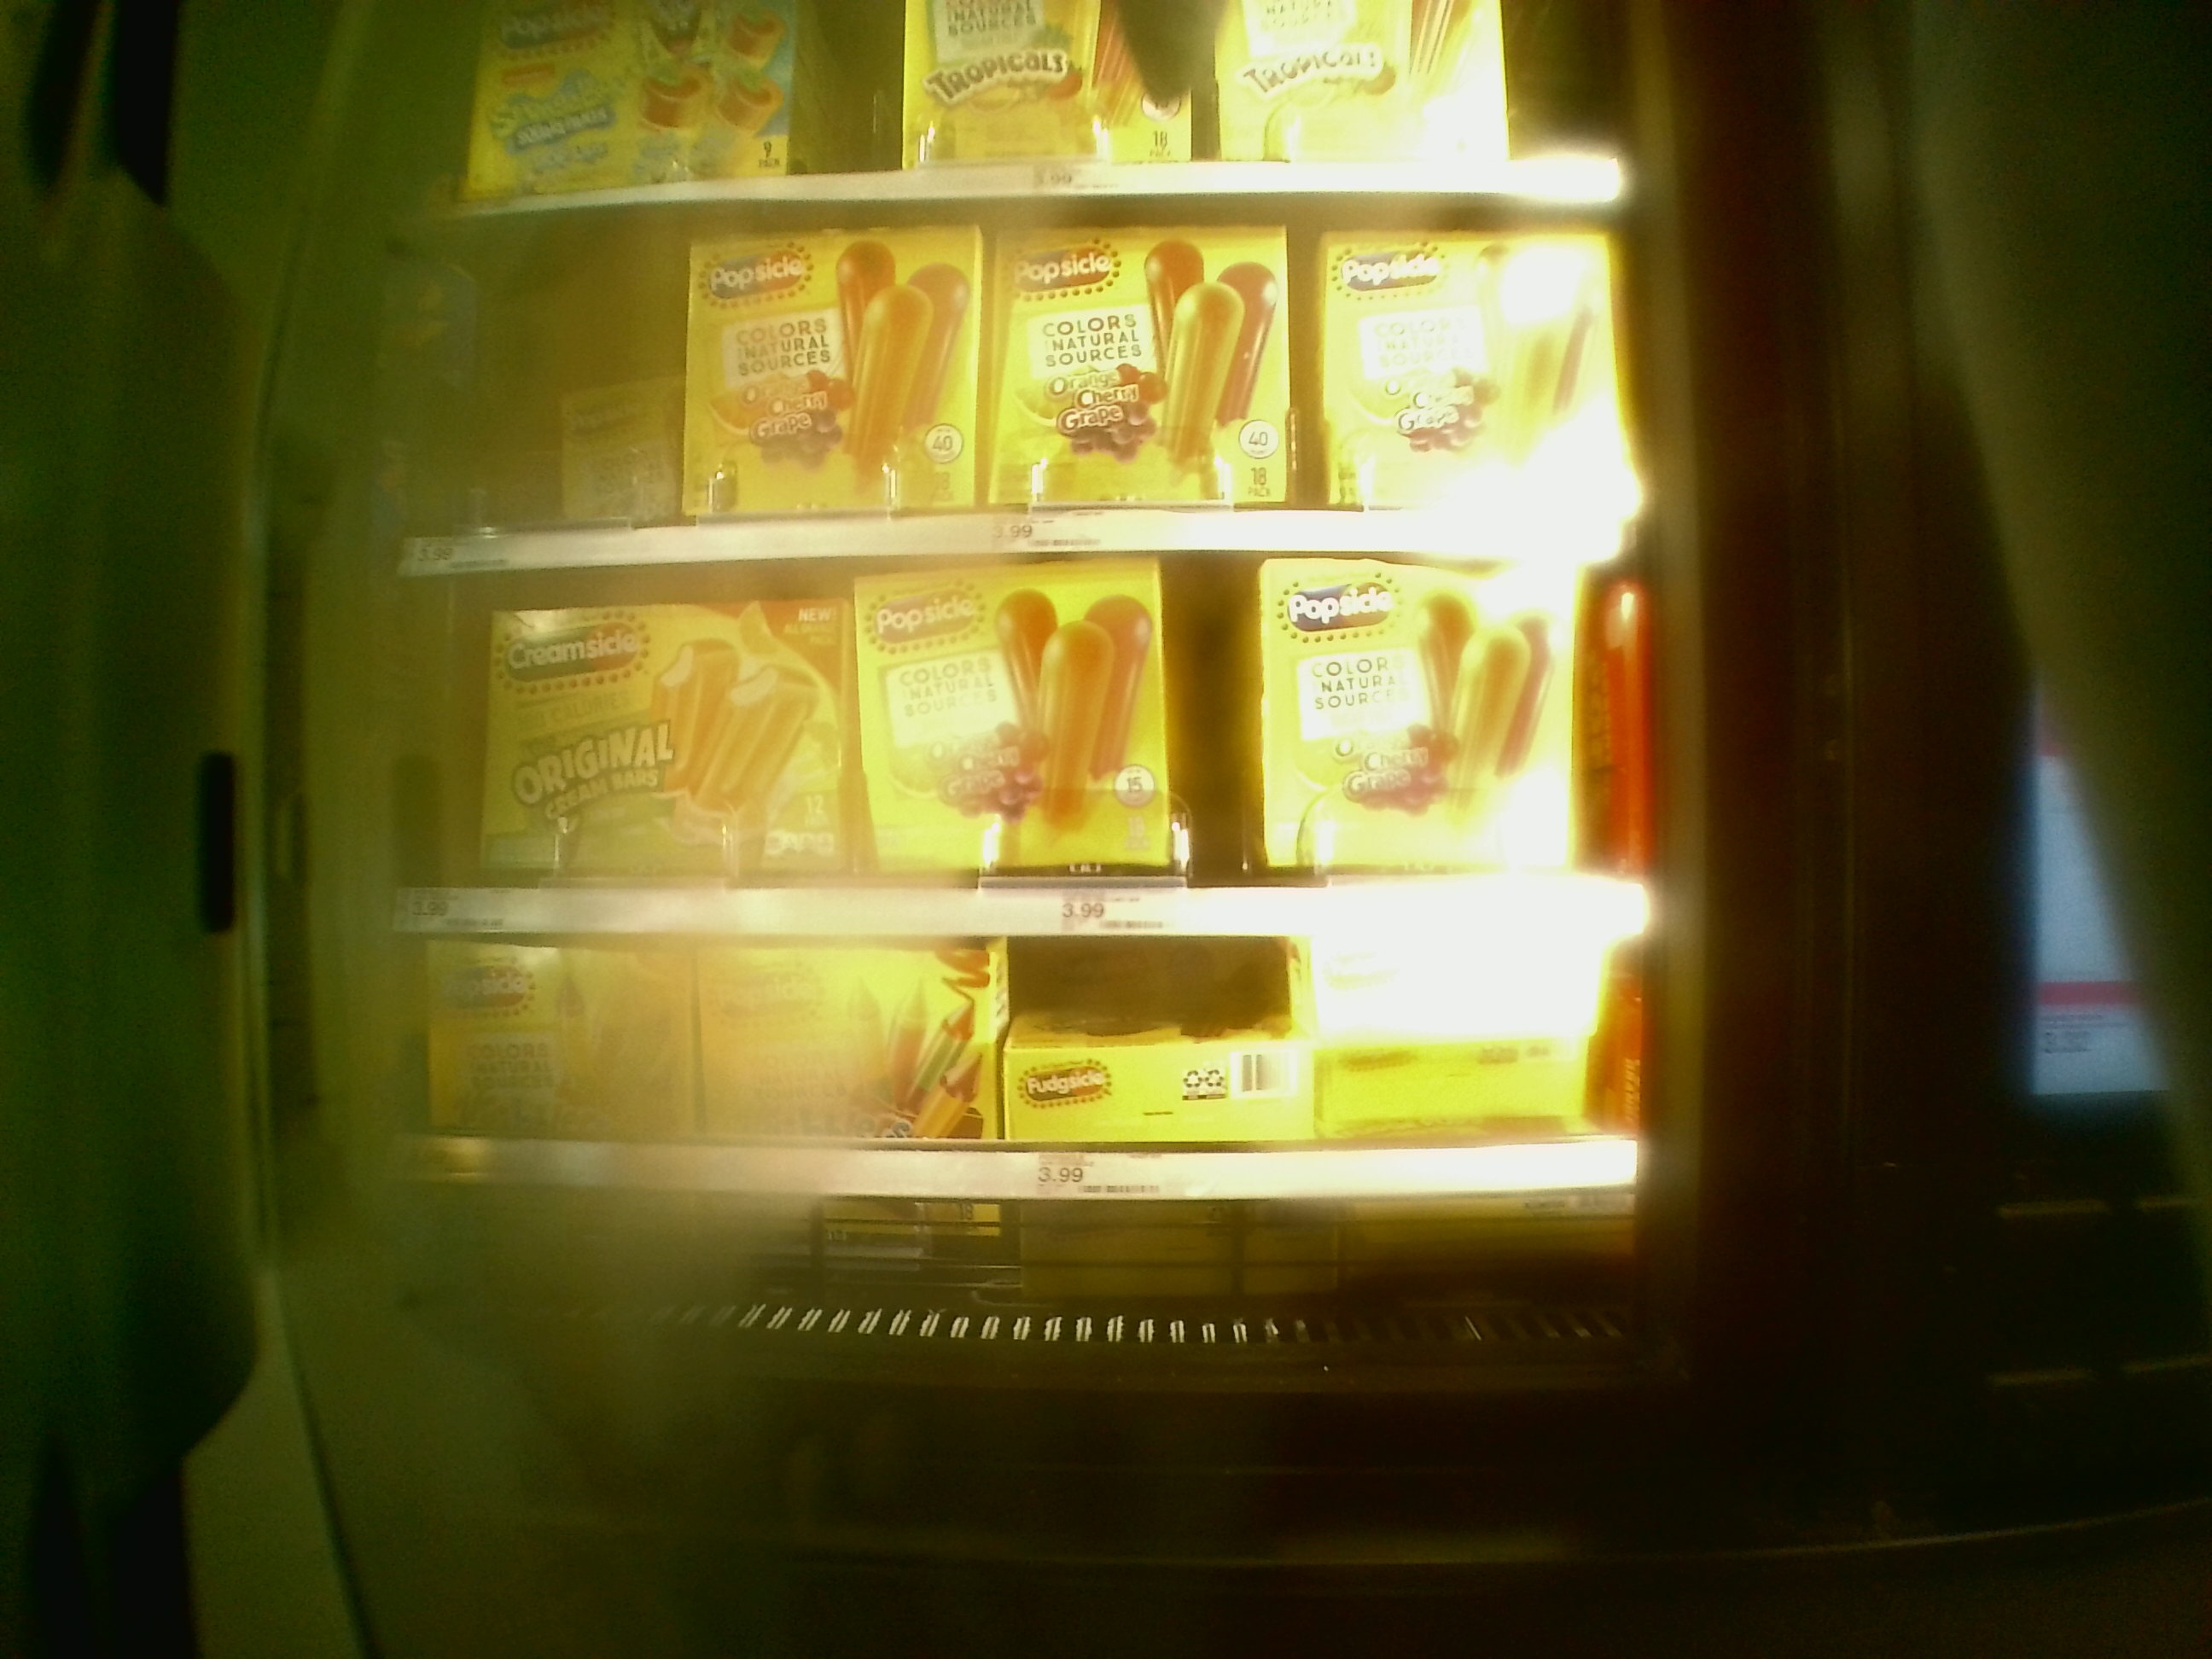frozen-food-shelf: (374, 575, 1691, 943), (374, 232, 1686, 572), (376, 945, 1691, 1206)
